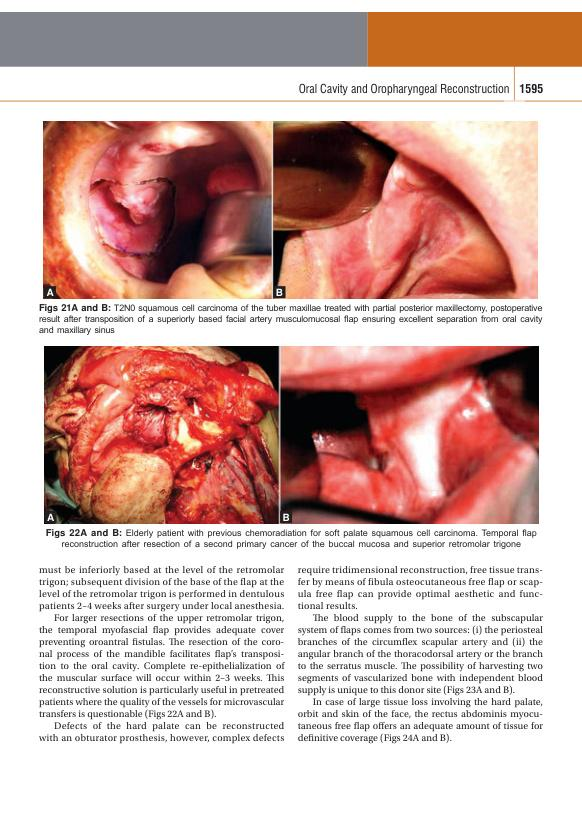caption: (38, 301, 543, 336), (45, 528, 538, 550), (46, 287, 55, 298), (275, 287, 284, 298), (46, 512, 55, 522), (282, 512, 290, 522)
header: (297, 81, 510, 96)
image: (273, 120, 538, 299), (280, 345, 539, 524), (44, 345, 279, 525), (43, 120, 272, 299)
text: (37, 565, 286, 747), (296, 564, 544, 745)
